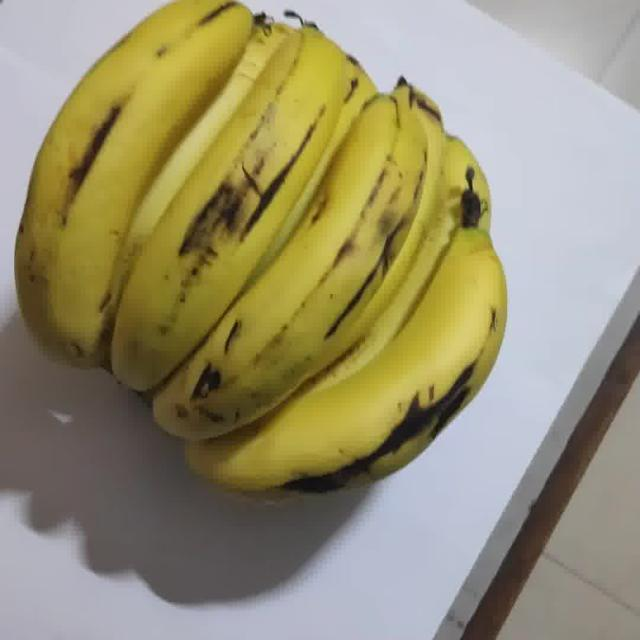banana_pacche: (14, 3, 612, 607)
